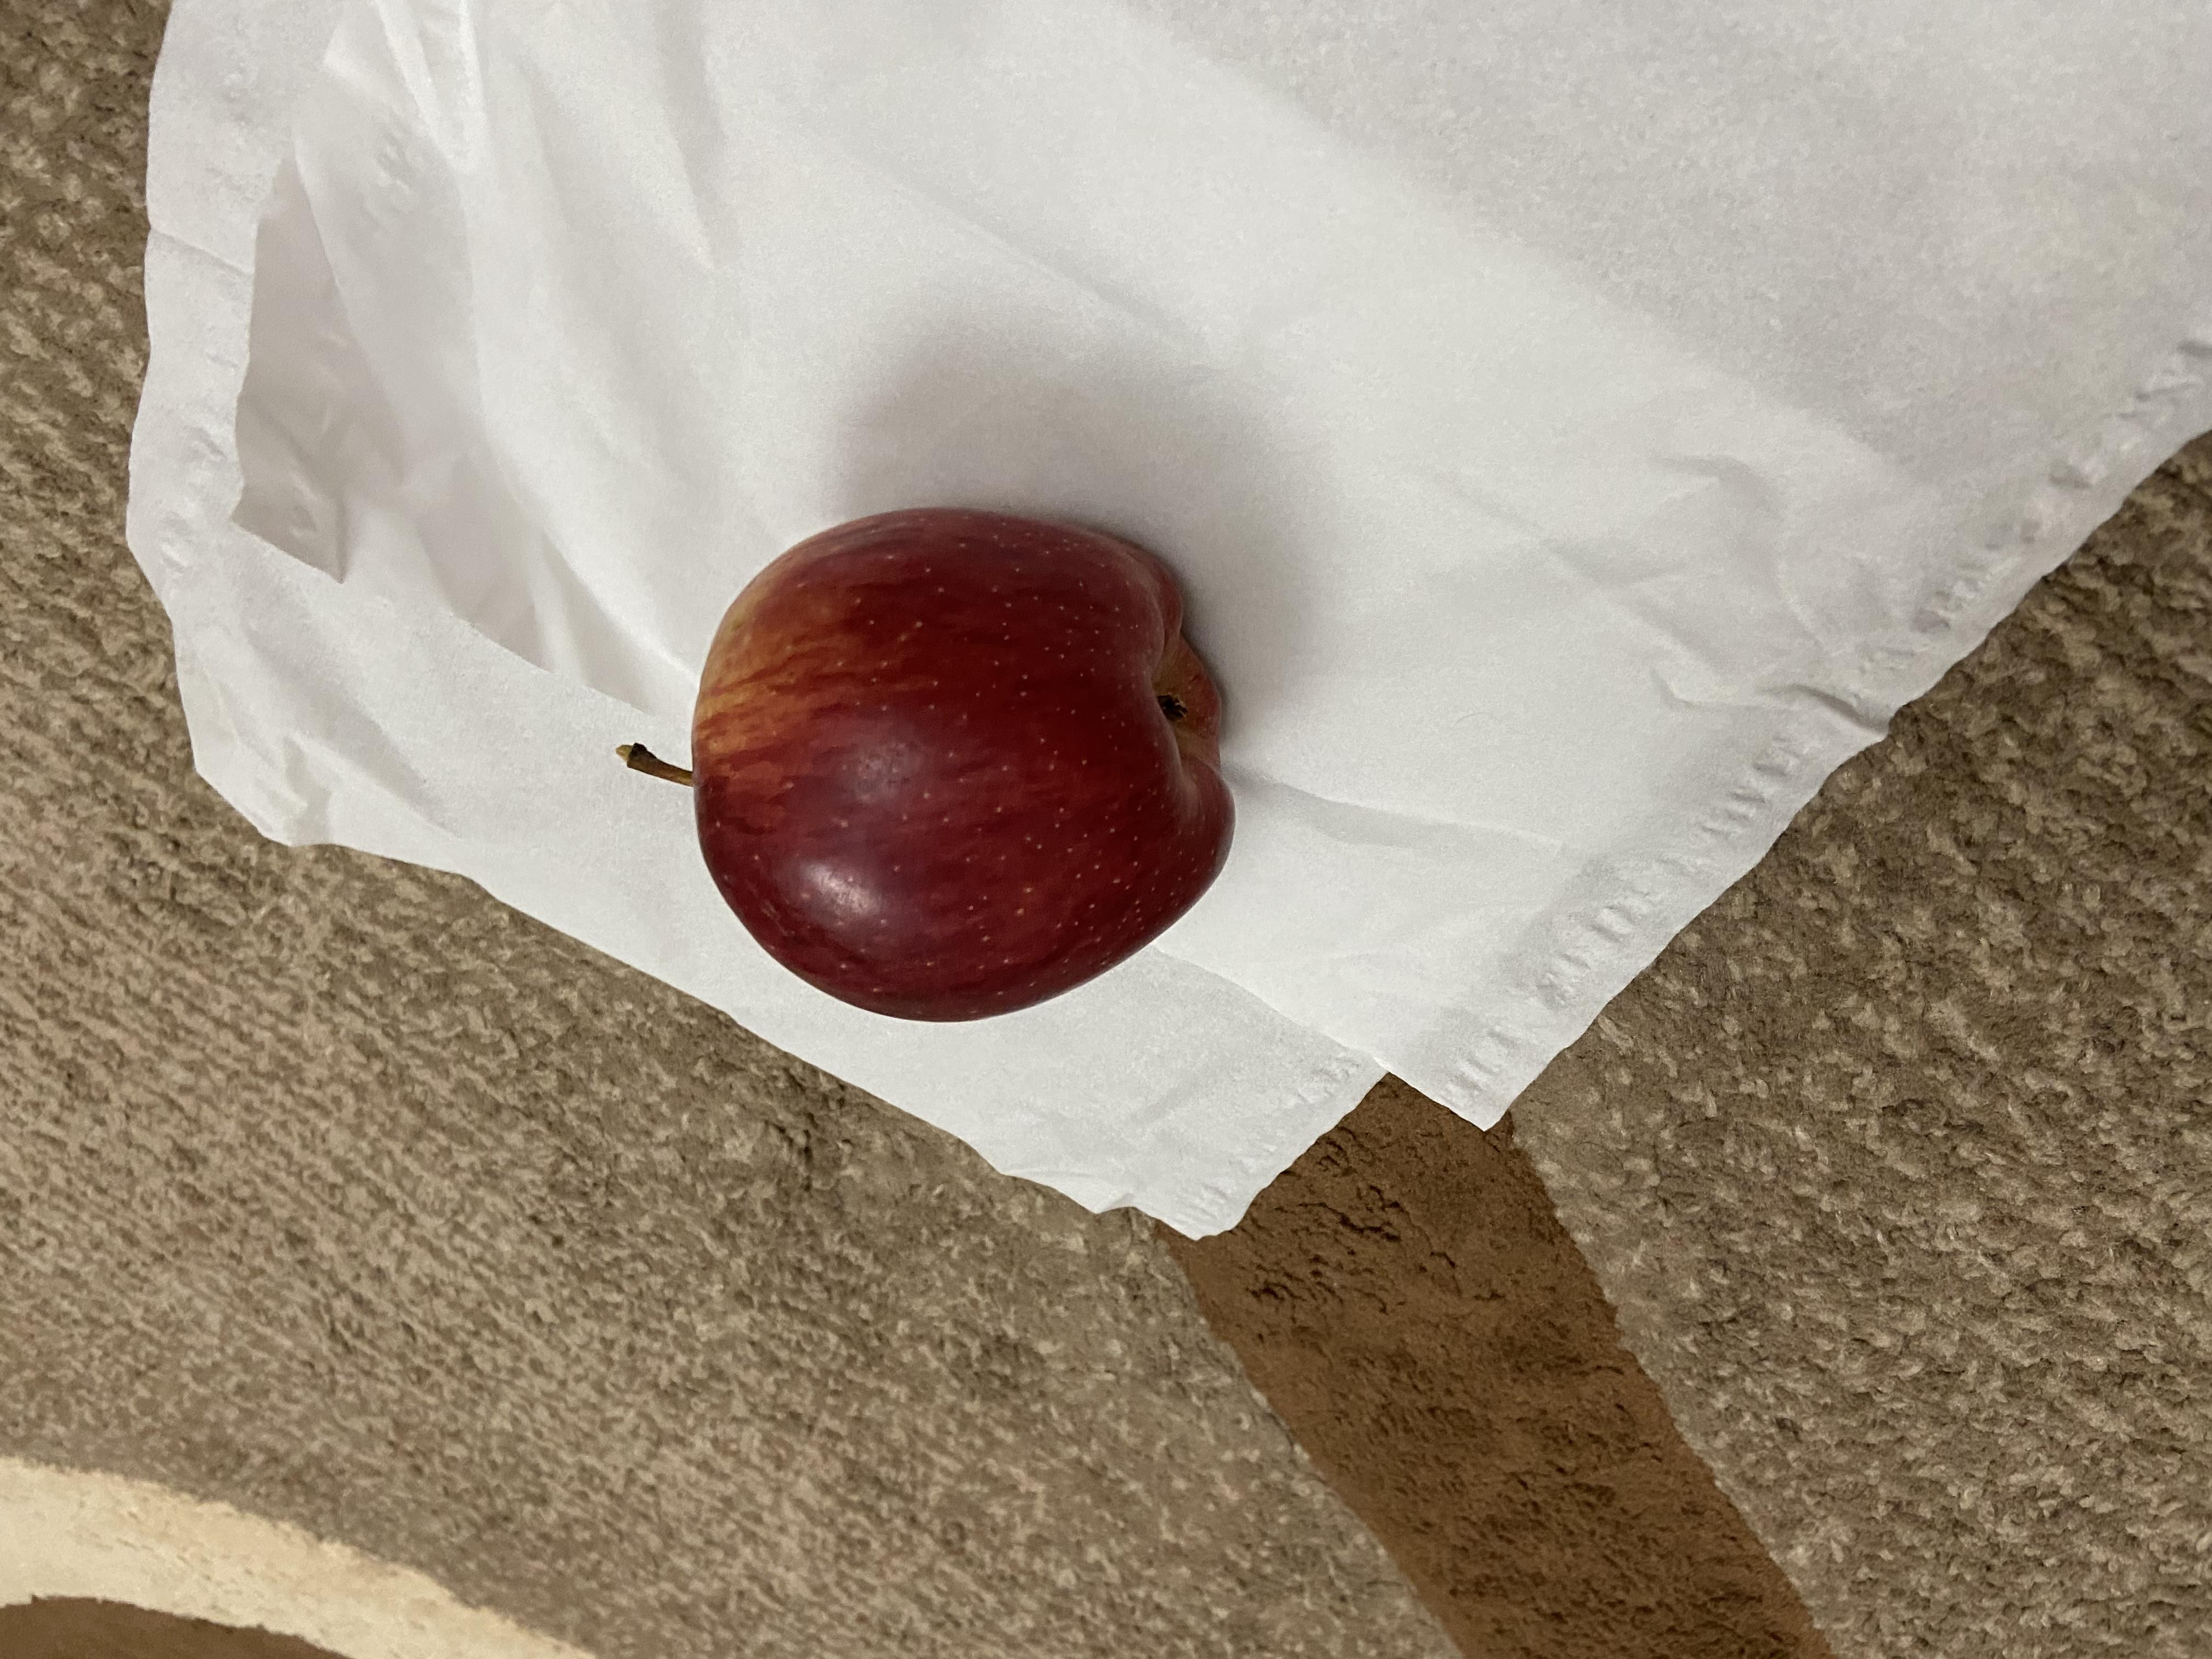Apple: (606, 505, 1263, 1026)
